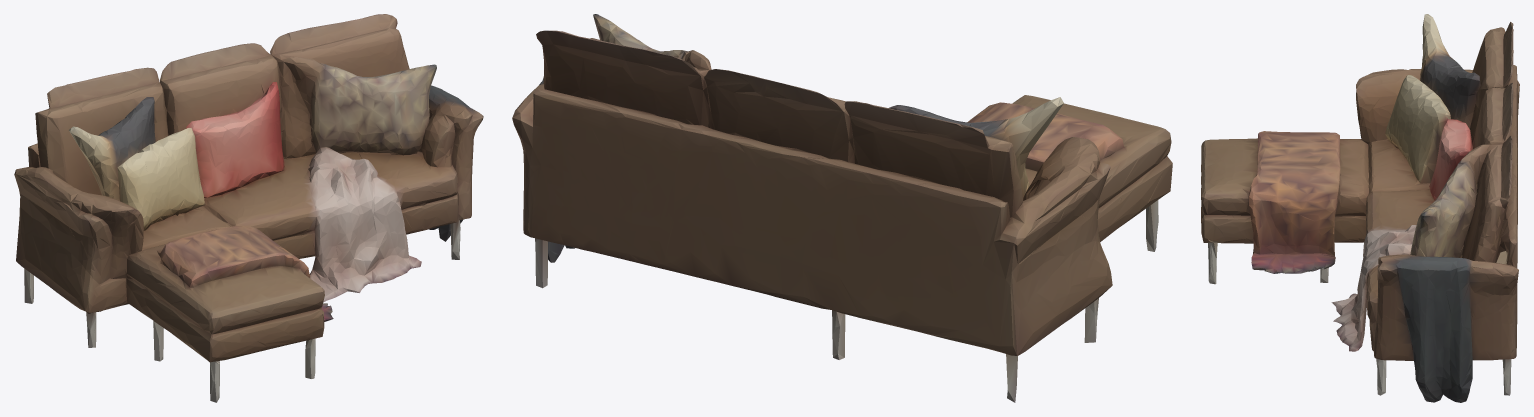
The model's file is cfseru_byxfee.glb.
3 renders of one model, left to right at view 1: azimuth 30°, elevation 25°; view 2: azimuth 150°, elevation 25°; view 3: azimuth 270°, elevation 25°, orthographic. The views are drawn at different scales.
Parts seen in each view (by area): view 1: geometry_0; view 2: geometry_0; view 3: geometry_0.
Boxes of the visible parts, x1,y1,x2,y2 form: geometry_0: (14, 14, 483, 402); geometry_0: (512, 14, 1172, 402); geometry_0: (1201, 14, 1519, 402).
Bounding box in the file's own units: 0.9923 × 0.4873 × 0.6738.
